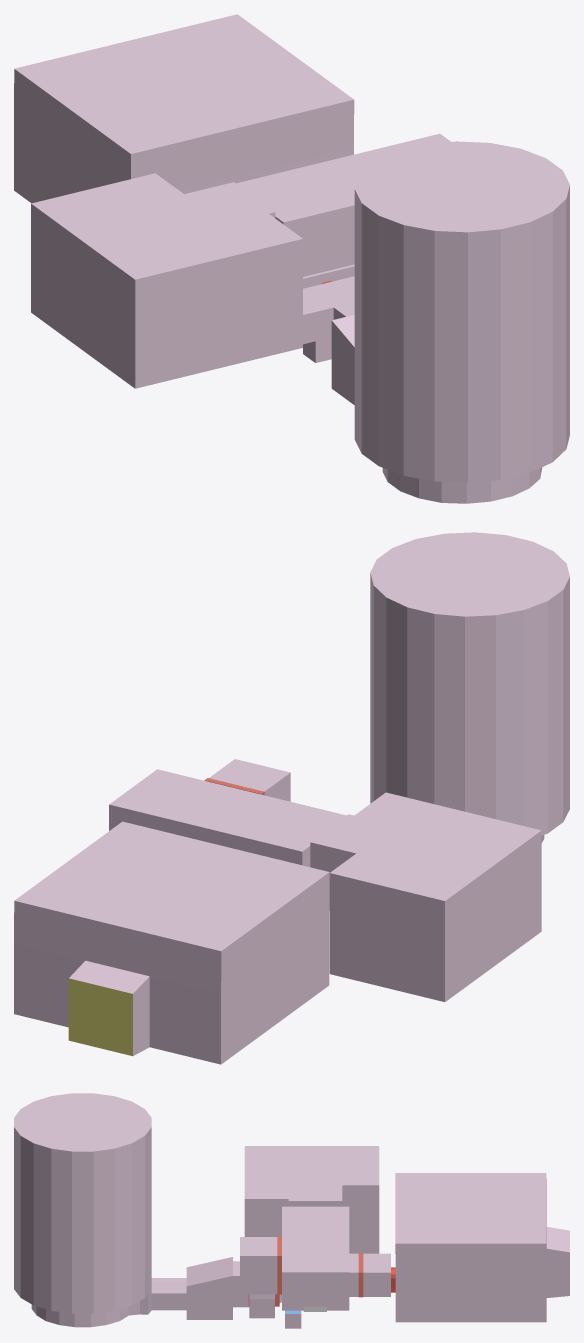
File: new_map.fbx
3 renders of one model, top to bottom at view 1: azimuth 30°, elevation 25°; view 2: azimuth 150°, elevation 25°; view 3: azimuth 270°, elevation 25°, orthographic. The views are drawn at different scales.
Parts seen in each view (by area): view 1: first_level; view 2: first_level; view 3: first_level, platform.005.
Part boxes in pixels (bbox=[...]): first_level: bbox=[14, 14, 569, 503]; first_level: bbox=[14, 532, 569, 1064]; first_level: bbox=[14, 1093, 569, 1327]; platform.005: bbox=[285, 1310, 301, 1328].
Bounding box in the file's own units: 12403 × 9000 × 23926.
